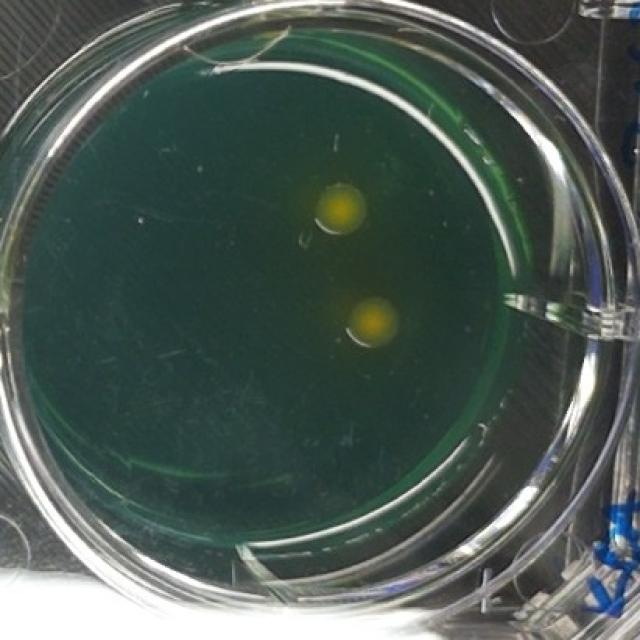vibrio: (342, 291, 403, 357), (309, 176, 368, 242)
